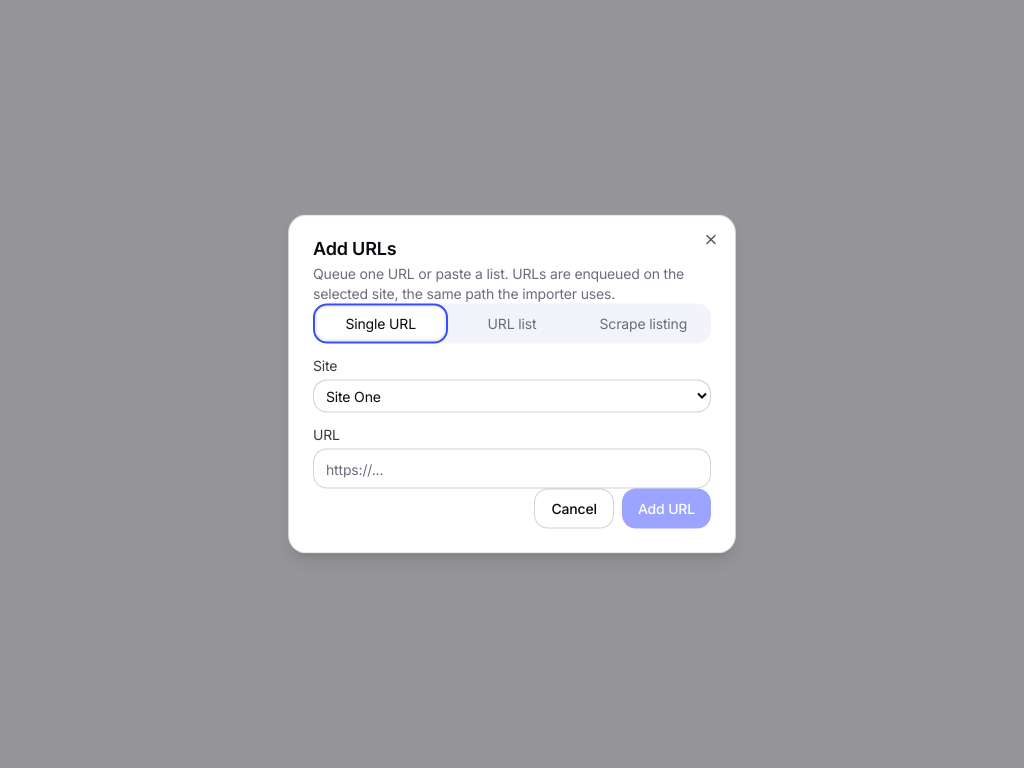
Test case: AddUrlDialog failed-dupe requeue (dl95-dailymotion-6) › a plain dupe (not failed) keeps the success toast and offers no Requeue
In the field labelled "URL": (512, 468) [313,448,711,488], type "https://example.com/video/failed-1"
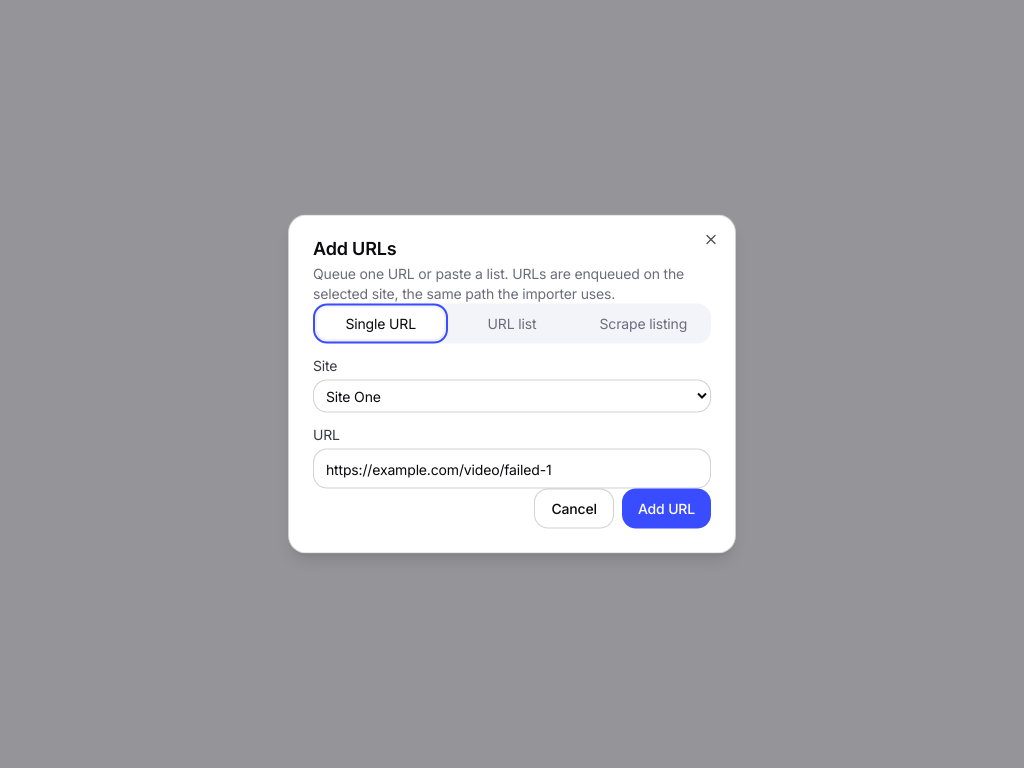
Click the button "Add URL": (666, 508) [622,488,711,528]
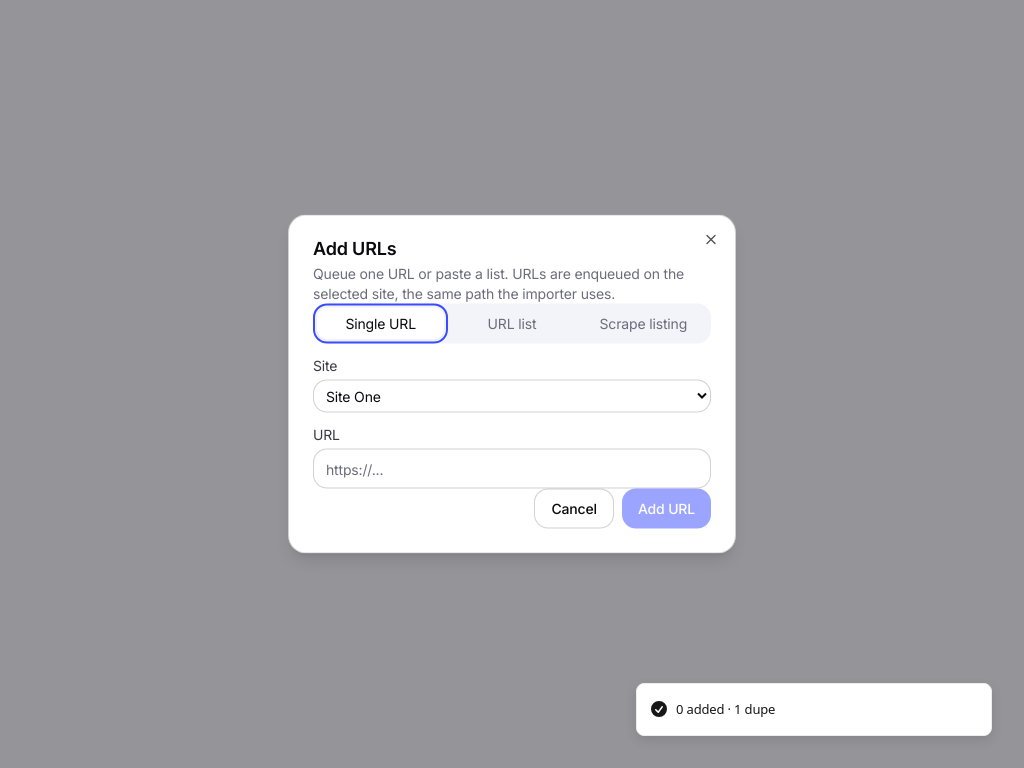
Now the text "0 added · 1 dupe" is shown, box [676,700,775,719]
